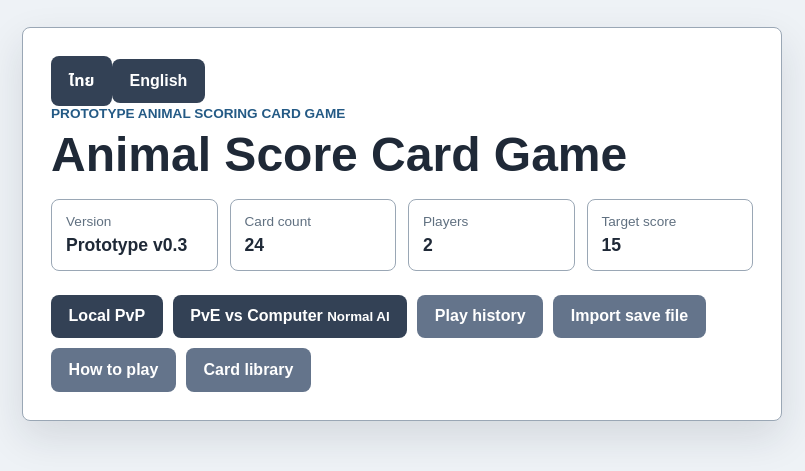
Test: App Phase 4 UI › loads stored English and switches back and forth without changing match state
Expected: the heading "Animal Score Card Game" is shown, [51,128,627,181]
Click the button "ไทย": click(82, 81) [51,56,112,106]
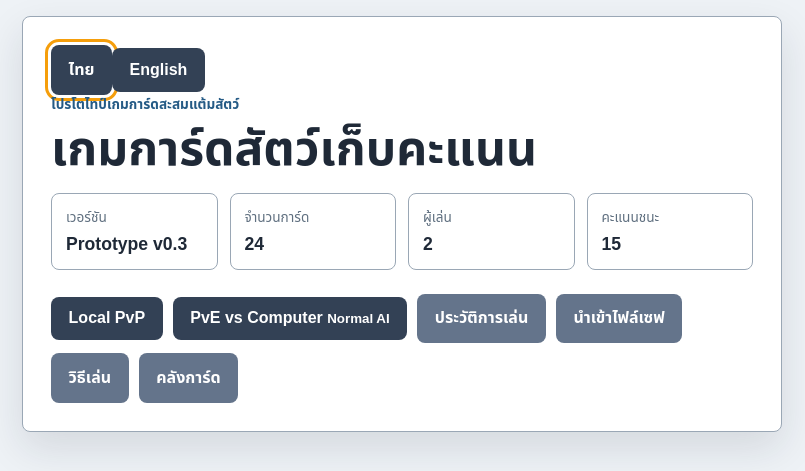
Now the heading "เกมการ์ดสัตว์เก็บคะแนน" is shown, box [51,122,537,175]
